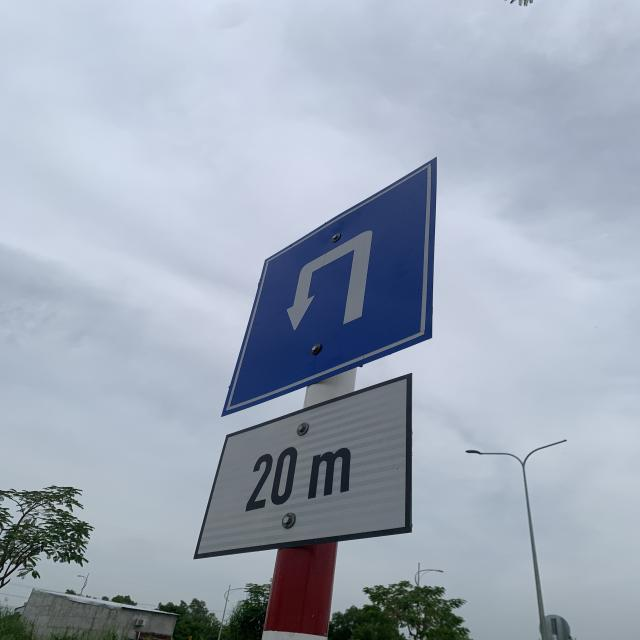Den_Giao_Thong: (223, 154, 434, 420)
